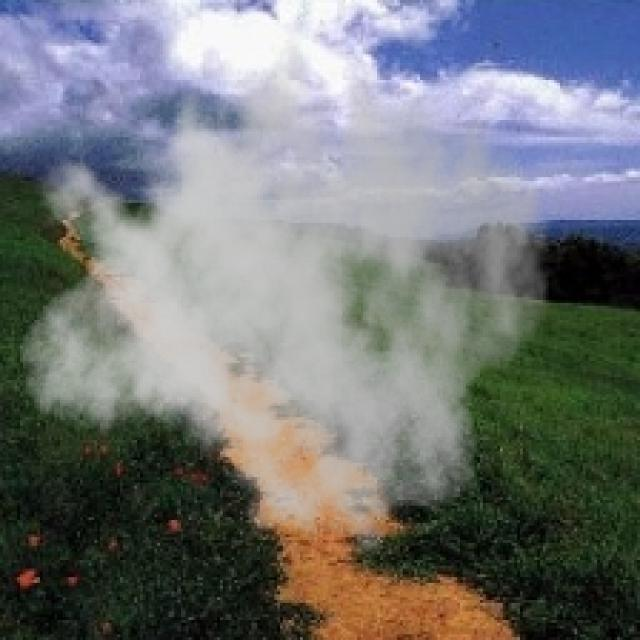Smoke: (17, 9, 552, 568)
